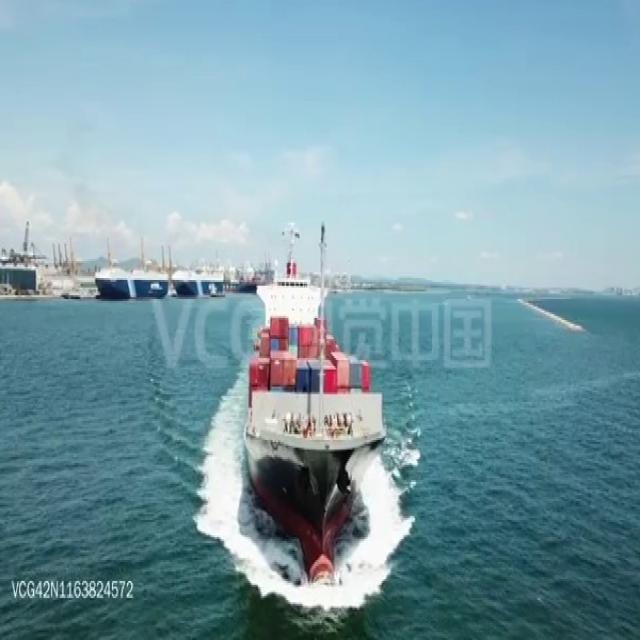cargoship: (238, 216, 386, 588)
